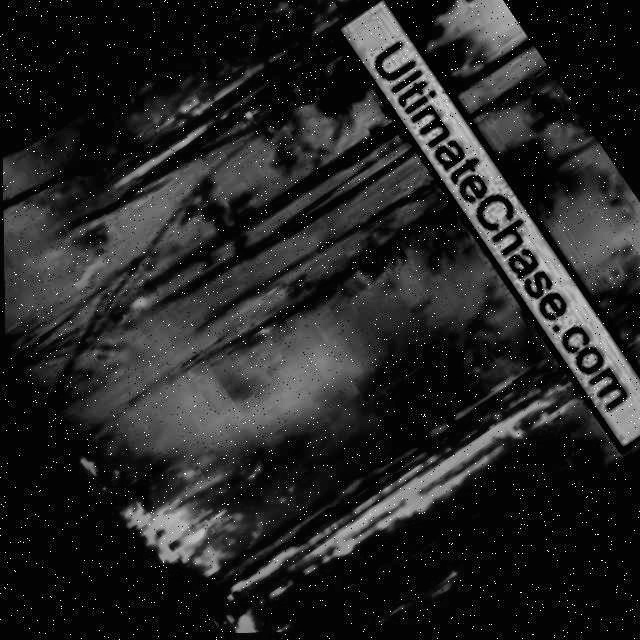Fire: (263, 362, 600, 613), (129, 465, 345, 637), (80, 75, 242, 213), (307, 0, 414, 40)
Smoke: (0, 0, 545, 612), (415, 0, 640, 451)
